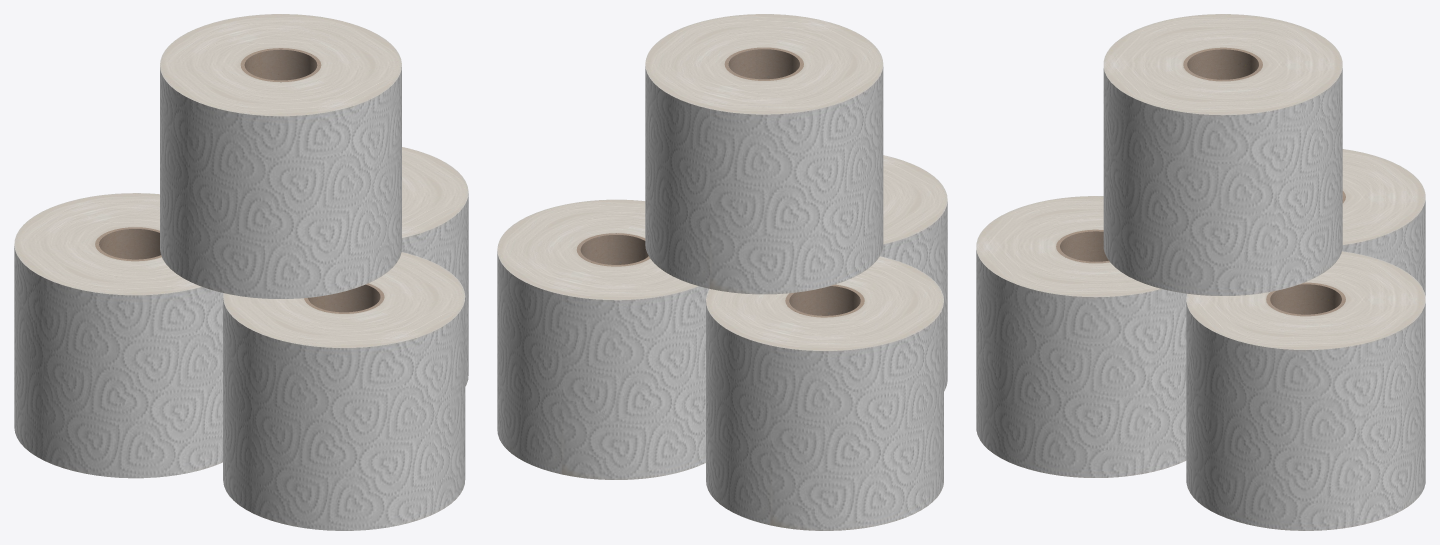
The model's file is ToiletPaper.fbx.
3 renders of one model, left to right at view 1: azimuth 30°, elevation 25°; view 2: azimuth 150°, elevation 25°; view 3: azimuth 270°, elevation 25°, orthographic.
Visible parts, largest first — view 1: poring1:ToiletPaper (×4), poring1:CoreDiameter (×3); view 2: poring1:ToiletPaper (×4), poring1:CoreDiameter (×3); view 3: poring1:ToiletPaper (×4), poring1:CoreDiameter (×3).
Boxes of the visible parts, x1,y1,x2,y2 form: poring1:ToiletPaper (×4): (14, 14, 468, 530); poring1:CoreDiameter (×3): (95, 48, 384, 313); poring1:ToiletPaper (×4): (497, 14, 947, 530); poring1:CoreDiameter (×3): (576, 47, 864, 317); poring1:ToiletPaper (×4): (976, 14, 1425, 530); poring1:CoreDiameter (×3): (1056, 47, 1345, 316).
Size of the model in its own units: 11.88 by 9.89 by 11.08.
2 materials, 2 textured.
